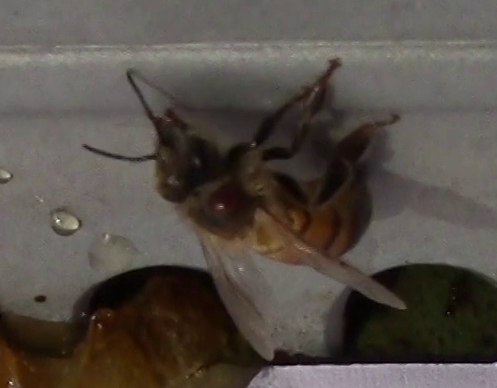Varroa destructor: (203, 183, 246, 222)
